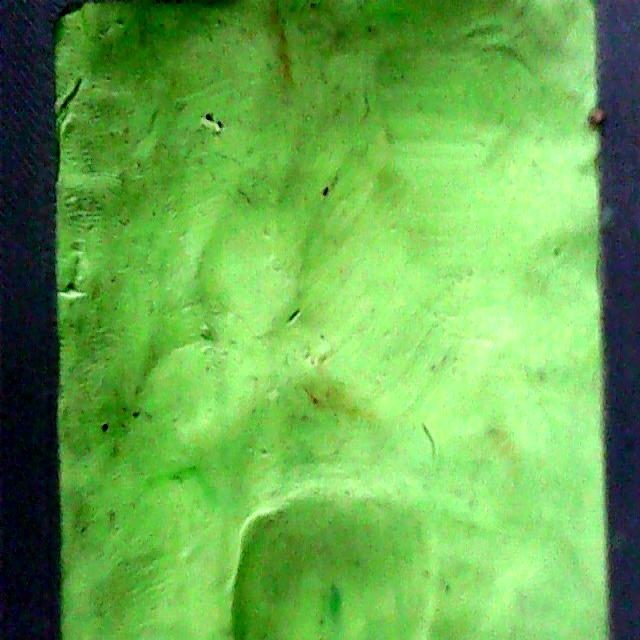block: (1, 21, 633, 640)
